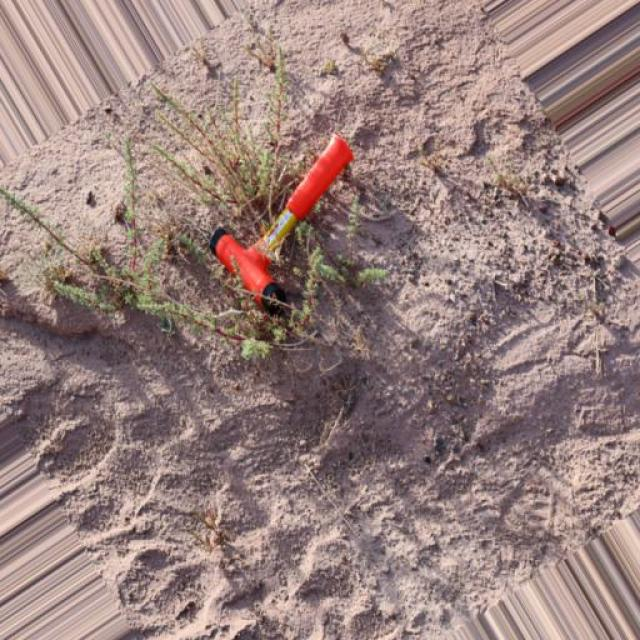mallet: (208, 130, 354, 316)
